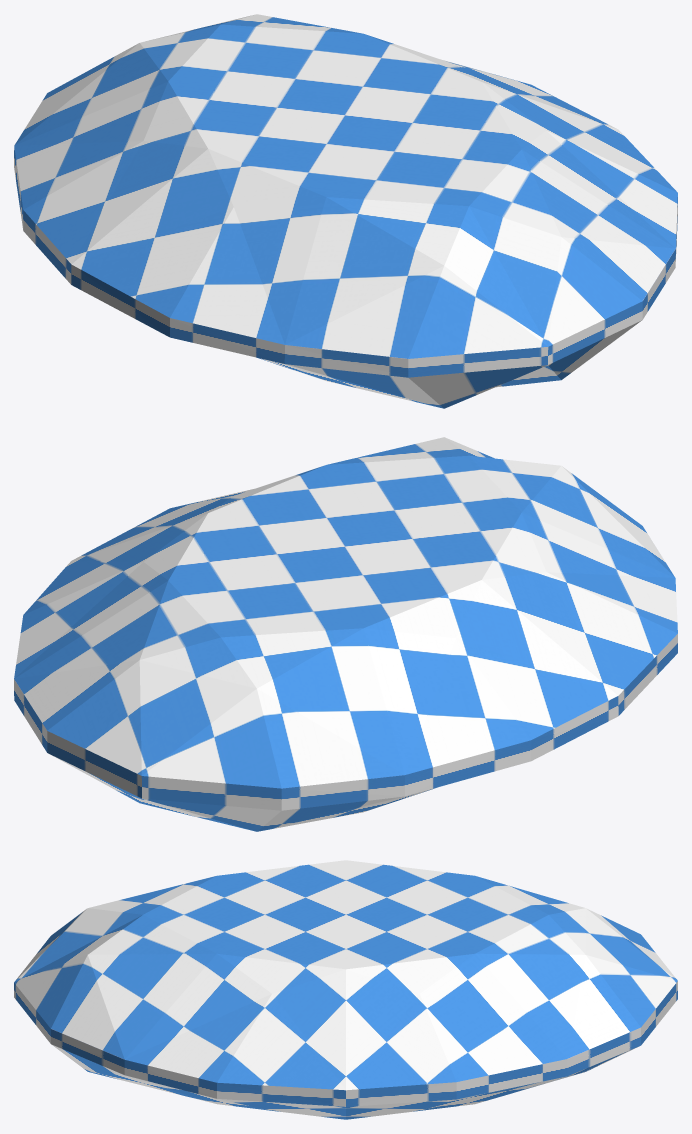
File: MarquiseCutDouble.FBX
The picture shows the model from 3 angles, top to bottom: view 1: azimuth 30°, elevation 25°; view 2: azimuth 150°, elevation 25°; view 3: azimuth 270°, elevation 25°; orthographic projection. The views are drawn at different scales.
Parts seen in each view (by area): view 1: MarquiseCutDouble; view 2: MarquiseCutDouble; view 3: MarquiseCutDouble.
Part boxes in pixels (bbox=[...]): MarquiseCutDouble: bbox=[14, 14, 677, 408]; MarquiseCutDouble: bbox=[14, 437, 677, 831]; MarquiseCutDouble: bbox=[14, 860, 677, 1119].
Size of the model in its own units: 0.8894 by 0.2859 by 1.14.
